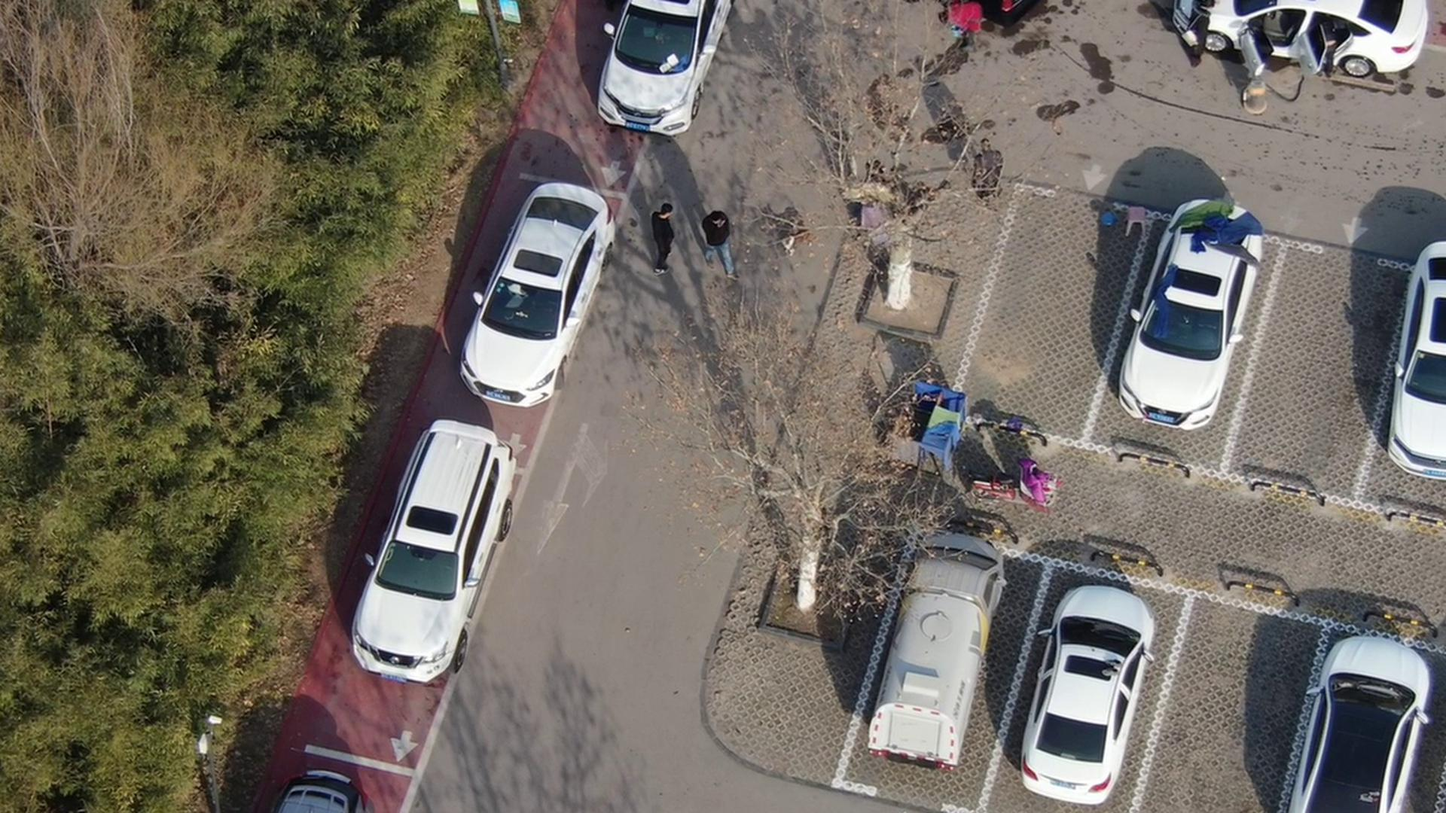human: (969, 138, 1010, 213), (1184, 1, 1228, 70), (1310, 4, 1347, 82), (654, 191, 684, 276), (707, 212, 747, 273)
